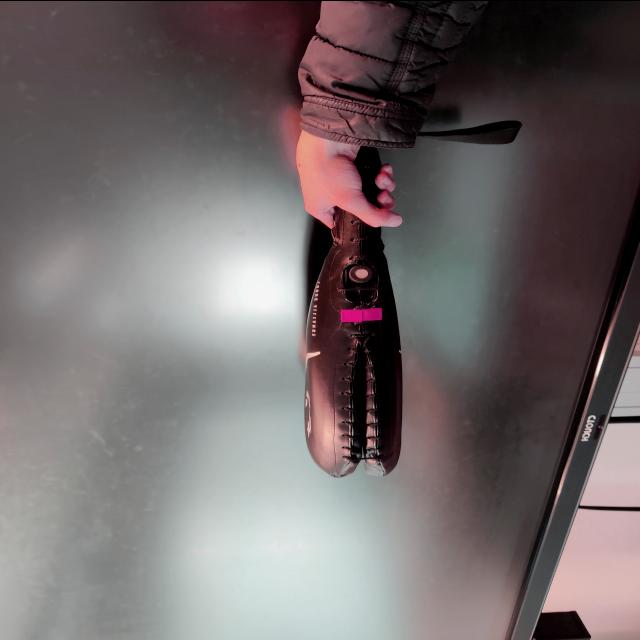paddle: (298, 209, 408, 485)
